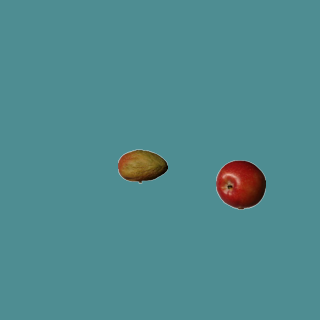Apple Braeburn: (215, 159, 265, 209)
Papaya: (117, 141, 167, 191)
